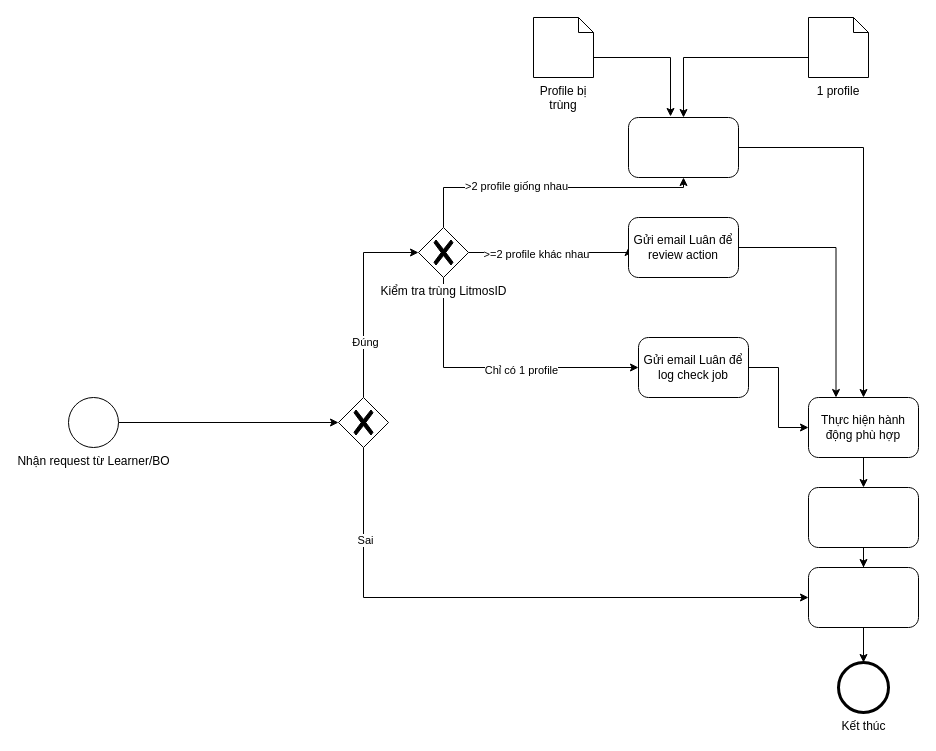
Image size: 936x751. Some labels were removed from this diagram. Each missing label, with the box of its shape:
Gửi BO để thống nhất 1 profile: (628, 116, 738, 178)
Hoàn thành trên PRUExpert & Chưa có kết quả trên TMS (đã làm đúng bước): (338, 396, 388, 448)
Input form + lưu evidence: (808, 486, 918, 548)
Reply User/BO: (808, 566, 918, 628)
